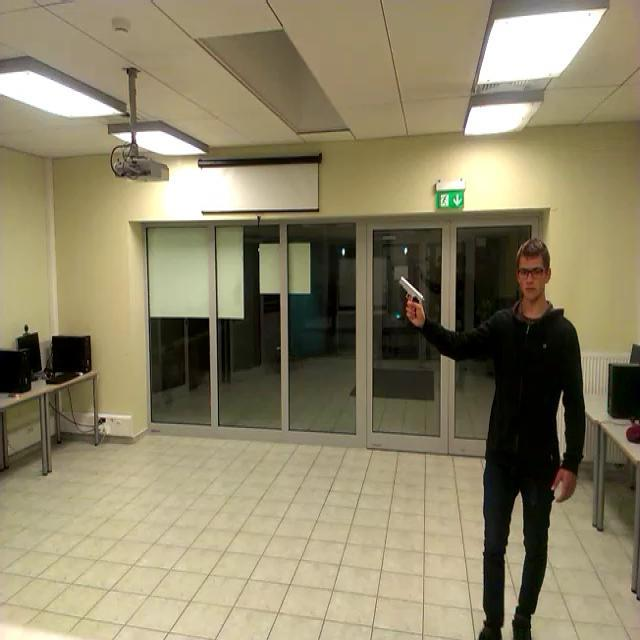Gun: (390, 271, 430, 326)
